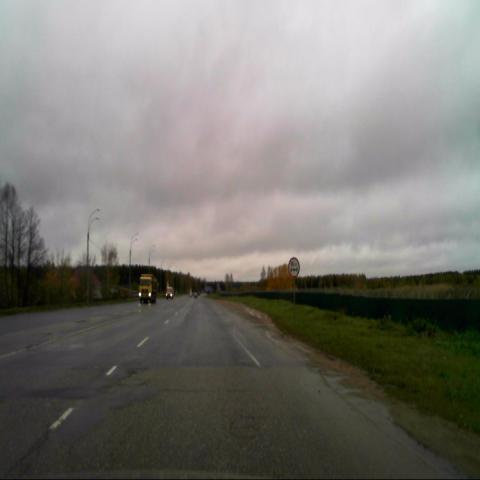3_12: (288, 255, 300, 278)
